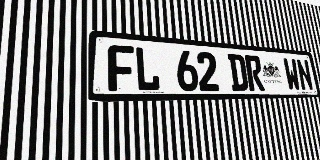2: (196, 51, 219, 91)
6: (175, 50, 199, 91)
D: (227, 54, 249, 91)
F: (108, 44, 135, 91)
L: (134, 46, 160, 91)
N: (296, 59, 314, 91)
R: (244, 55, 265, 91)
W: (282, 58, 301, 91)
